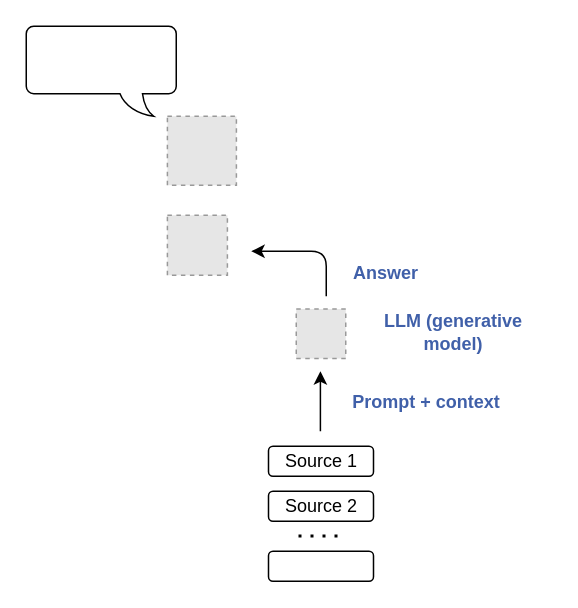
The diagram is 578 pixels wide and 608 high, and some of its shapes have lost their labels. Grey dashed boxes stand in for pictures. The shapes that lost their labels are listed below. From the top down, each one's centre as x and y in pixels, then its label:
the point at 100,70: How is GDP defined ?
the point at 320,565: Source n
